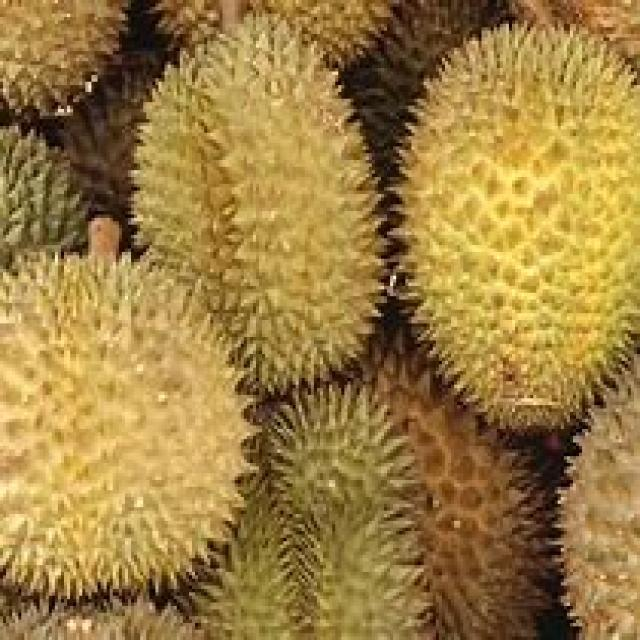mature: (406, 27, 640, 428), (136, 18, 379, 392), (0, 260, 249, 600)
